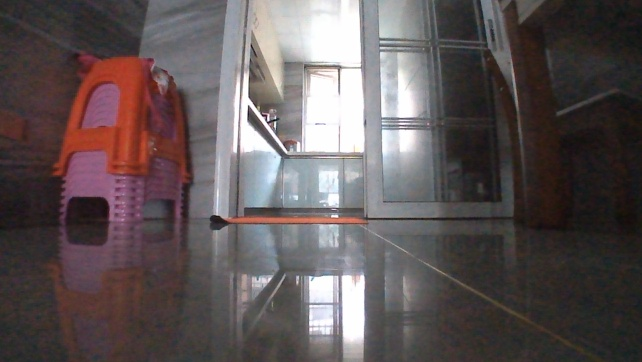blanket: (206, 210, 371, 229)
cupboard: (236, 95, 365, 215)
